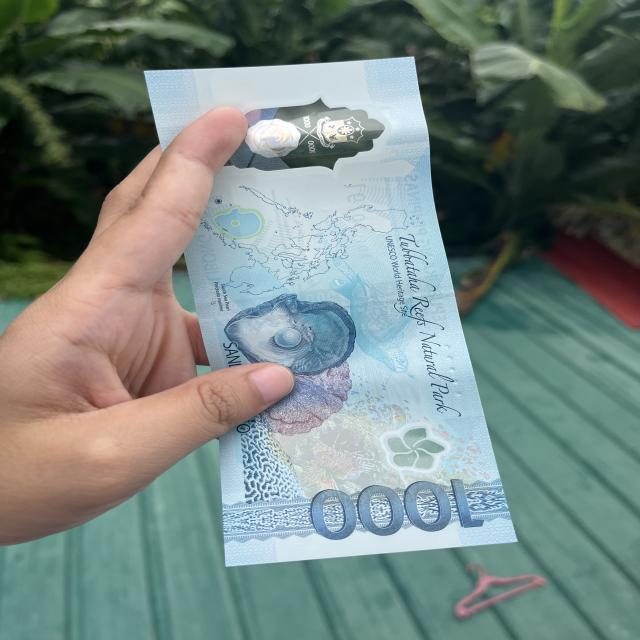clear_window: (152, 83, 432, 190)
sampaguita: (382, 422, 447, 470)
security_thread: (195, 273, 454, 320)
